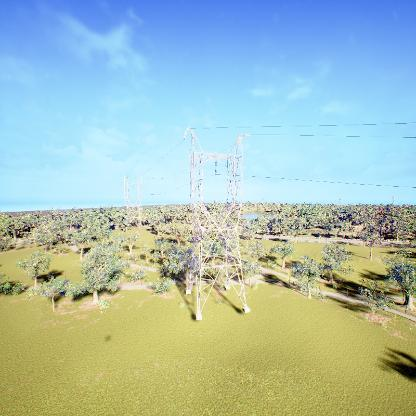tower: (178, 121, 258, 320)
